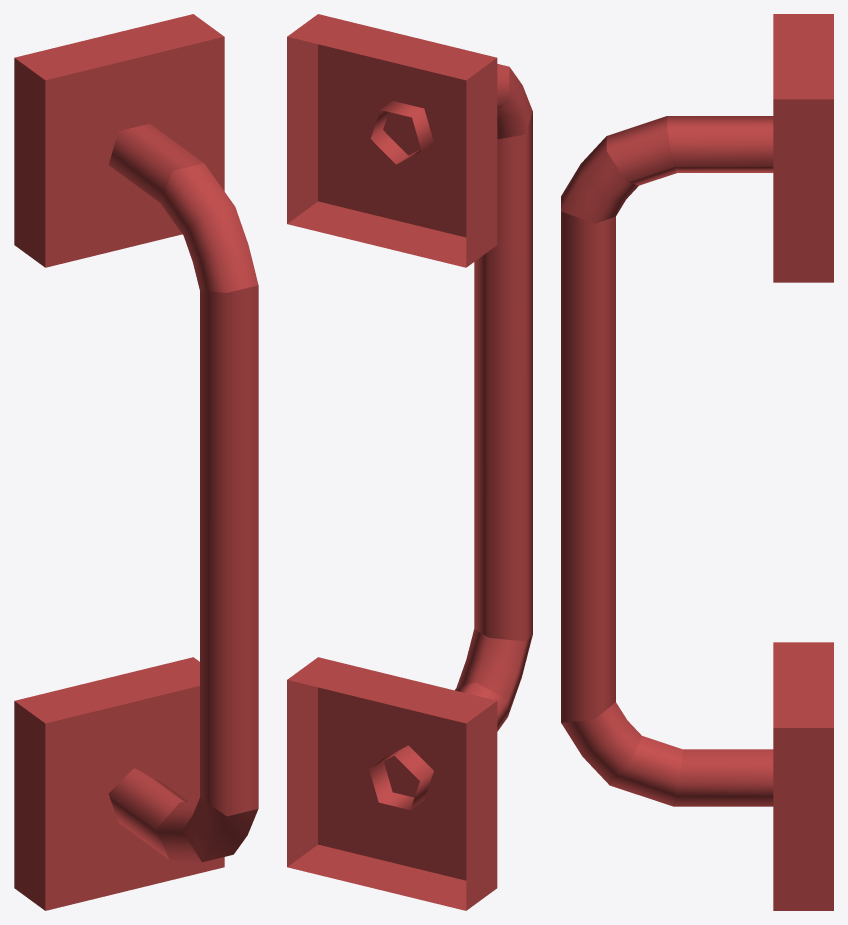
The model's file is grip.FBX.
3 renders of one model, left to right at view 1: azimuth 30°, elevation 25°; view 2: azimuth 150°, elevation 25°; view 3: azimuth 270°, elevation 25°, orthographic. The views are drawn at different scales.
Parts seen in each view (by area): view 1: Object1067; view 2: Object1067; view 3: Object1067.
Part boxes in pixels (x1,y1,x2,y2): Object1067: [14, 14, 258, 910]; Object1067: [287, 14, 532, 910]; Object1067: [561, 14, 833, 910].
Size of the model in its own units: 0.1 by 0.4431 by 0.135.
